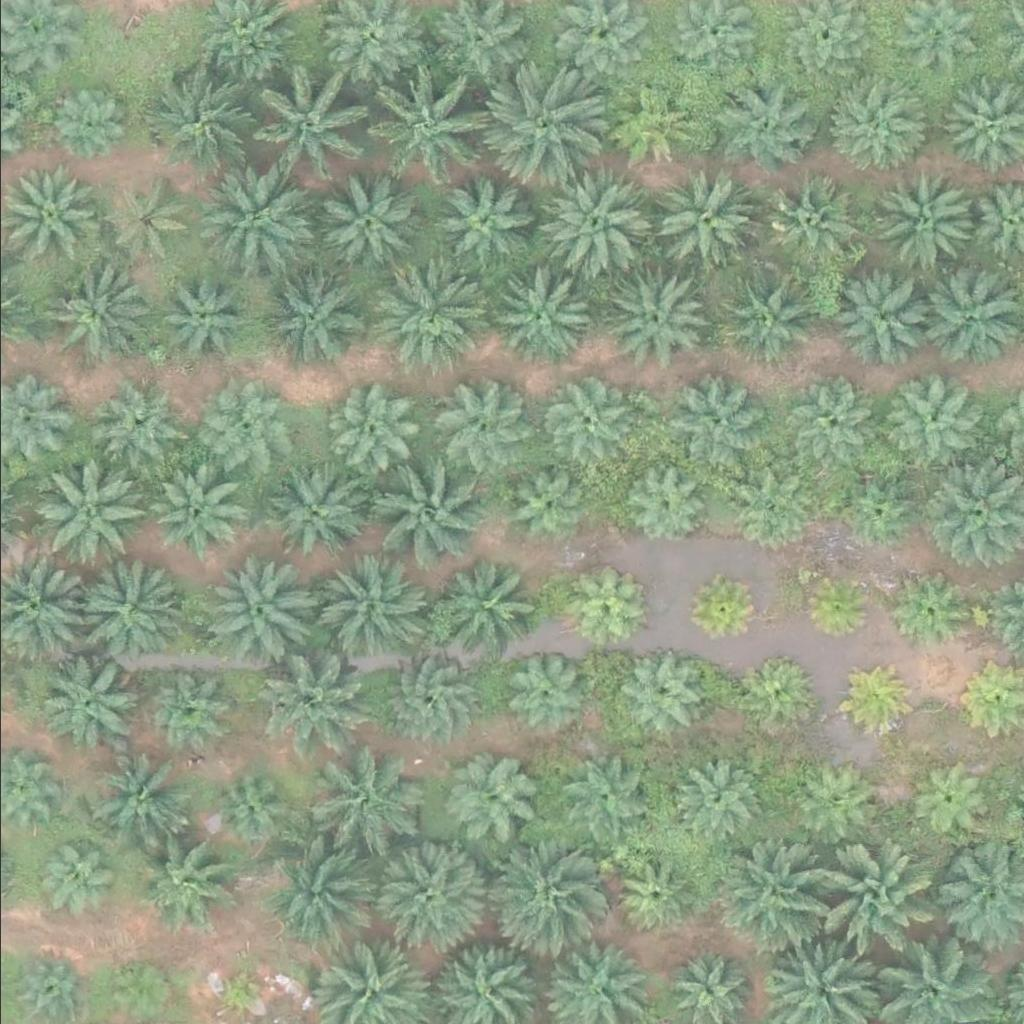Kelapa_Sawit: (204, 548, 318, 661), (372, 834, 485, 947), (74, 545, 187, 658), (475, 257, 588, 370), (366, 258, 479, 371), (309, 168, 422, 281), (715, 841, 828, 954), (483, 67, 596, 180), (269, 834, 383, 946), (308, 551, 422, 663), (31, 453, 145, 565), (810, 847, 924, 959), (481, 832, 594, 944), (264, 645, 377, 757), (370, 449, 483, 561), (531, 169, 644, 281), (193, 166, 306, 278), (358, 69, 471, 181), (240, 69, 353, 181), (142, 64, 255, 176), (130, 828, 231, 928), (81, 742, 182, 842), (309, 742, 410, 842), (33, 652, 134, 752), (433, 555, 534, 655), (265, 458, 366, 558), (428, 379, 529, 479), (608, 268, 709, 368), (35, 262, 136, 362), (428, 175, 529, 275), (916, 264, 1017, 364), (833, 269, 934, 369), (660, 169, 761, 269), (716, 268, 817, 368), (664, 375, 765, 475), (868, 171, 969, 271), (831, 75, 932, 175), (444, 749, 544, 849), (376, 647, 476, 747), (714, 76, 814, 176), (260, 269, 361, 368), (607, 849, 695, 937), (205, 763, 293, 851), (614, 644, 702, 732), (145, 470, 233, 558), (542, 370, 630, 458), (834, 466, 922, 554), (716, 466, 804, 554), (906, 752, 994, 840), (783, 757, 871, 845), (878, 376, 966, 464), (786, 377, 874, 465), (556, 749, 645, 836), (101, 181, 190, 268), (498, 646, 586, 733), (136, 668, 224, 755), (618, 462, 706, 549), (494, 459, 582, 546), (99, 373, 187, 460), (211, 382, 299, 469), (326, 385, 414, 472), (160, 276, 248, 363), (39, 80, 127, 167), (674, 756, 762, 843), (764, 174, 852, 261), (604, 82, 692, 169), (740, 651, 816, 726), (31, 834, 107, 909), (560, 568, 636, 643), (687, 573, 763, 648), (836, 666, 912, 741), (895, 576, 970, 651), (798, 568, 873, 643), (208, 961, 271, 1023)
